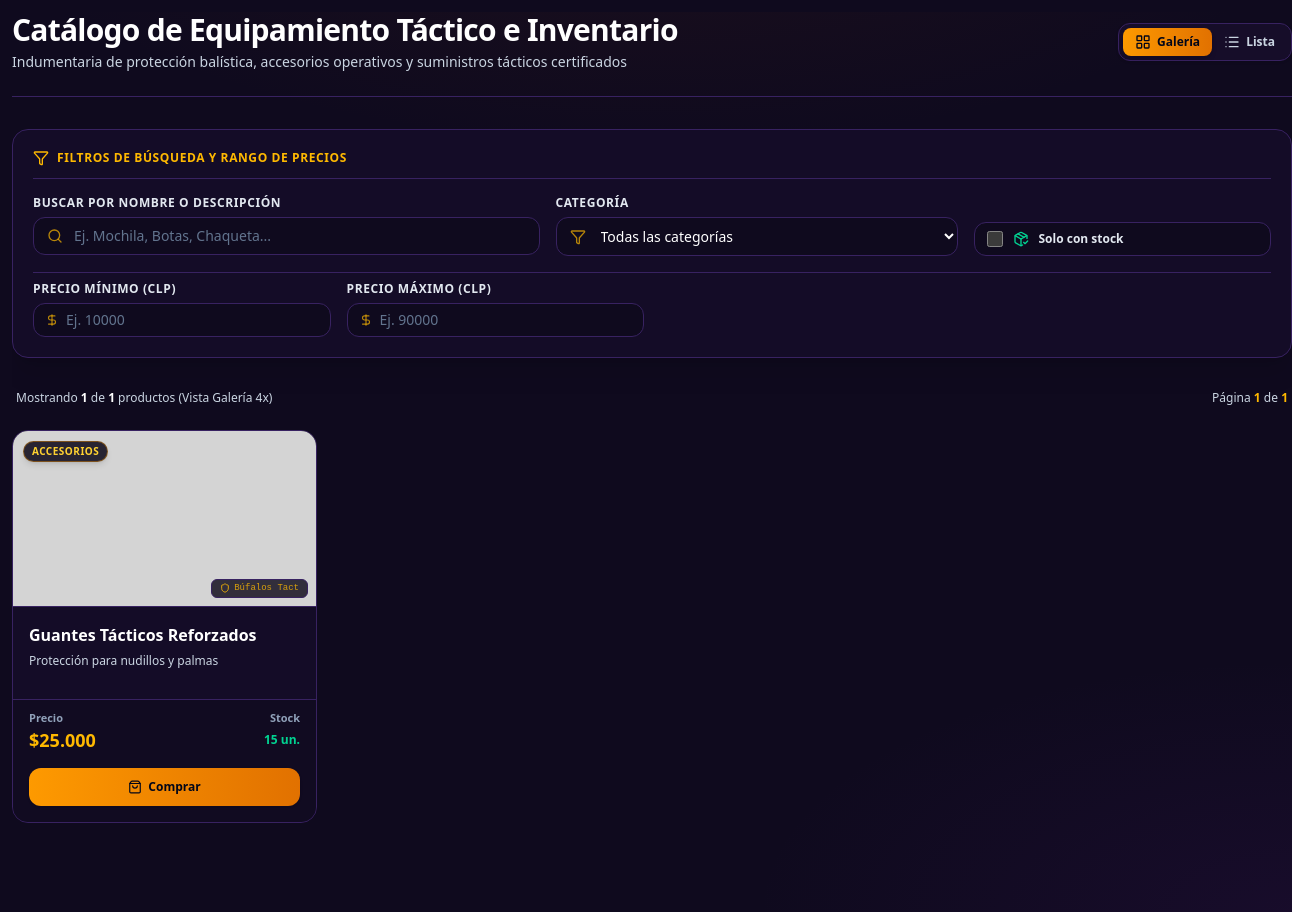
it: Nuevas Funcionalidades: Registro, Toggle de Vista, Tema Claro/Oscuro › permite alternar entre Vista Galería (4x) y Vista Lista en el Catálogo unificado
The width and height of the screenshot is (1292, 912).
Expected: the heading "Guantes Tácticos Reforzados" is shown, [29,624,257,646]
Expected: the button with aria-label "vista de cuadrícula de 4 columnas" reads "Galería", [1123,28,1212,56]
# Cambiar a vista Lista / Tabla
What coordinates should you click on to do the following:
click the button with aria-label "vista de lista y tabla detallada"
I would click on:
 (1250, 42)
Its box is [1212,28,1287,56].
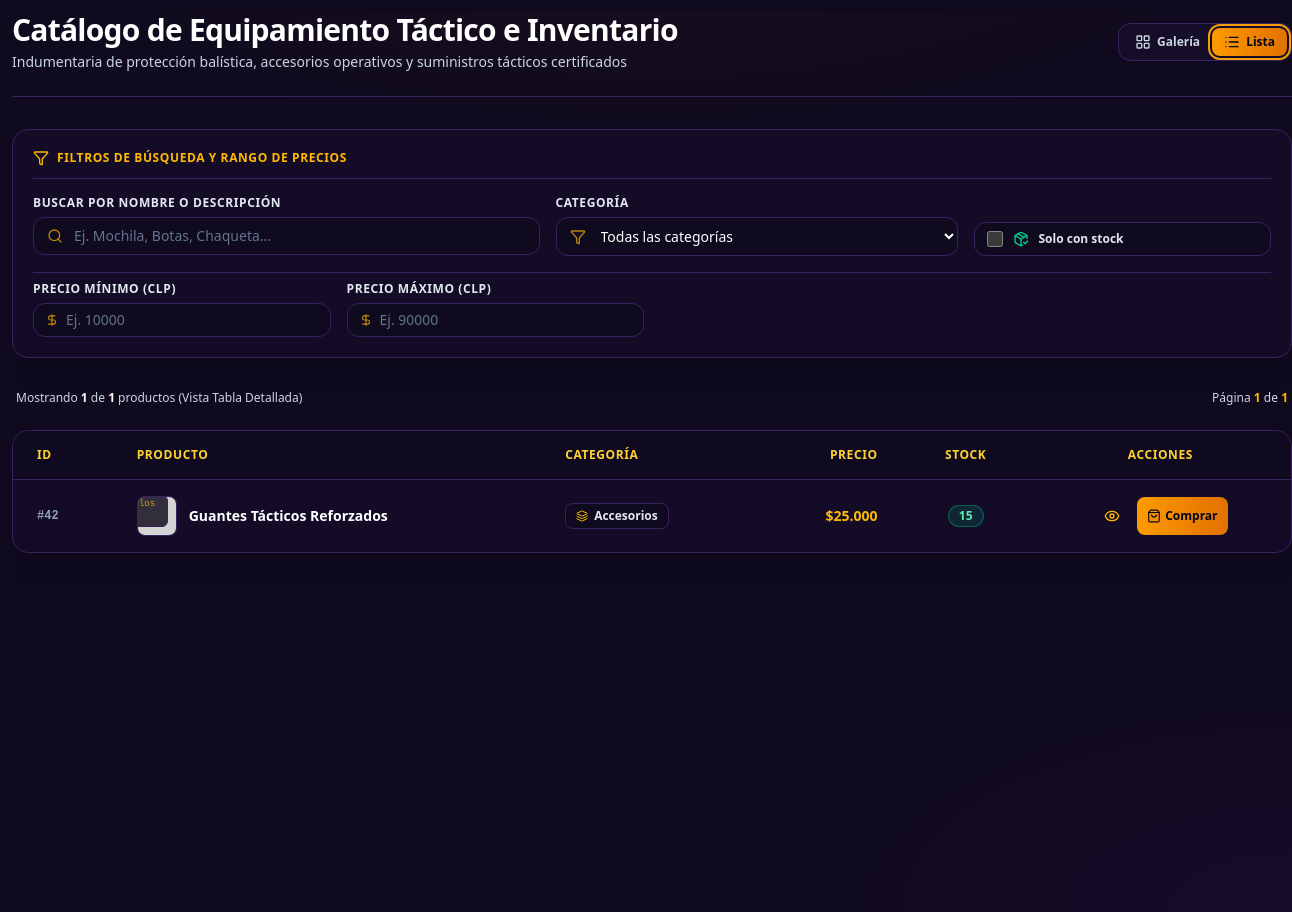
Expected: the text "Guantes Tácticos Reforzados" is shown, [189,506,388,526]
Now the table is shown, box [13,431,1291,552]
